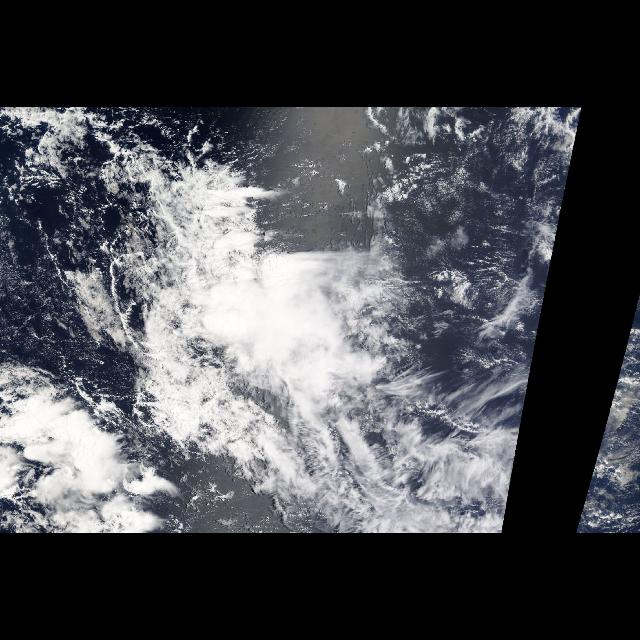Gravel: (1, 107, 168, 257)
Sugar: (367, 143, 571, 313), (2, 216, 138, 386)
